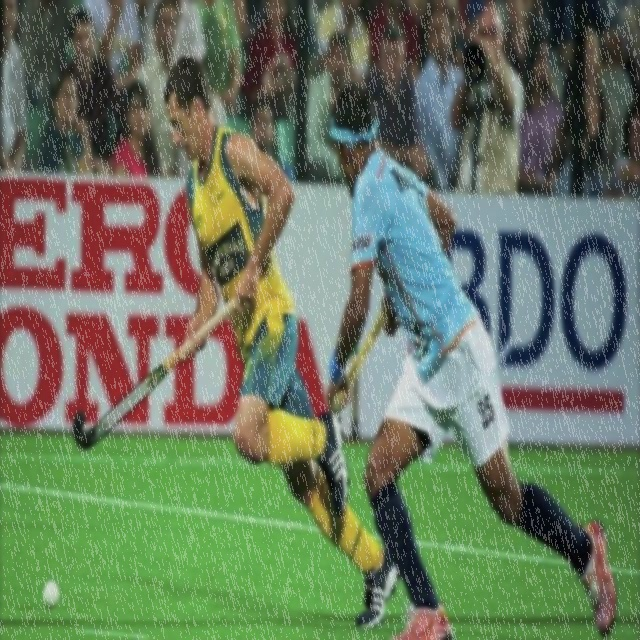pessoa: (323, 73, 619, 640), (161, 47, 401, 632), (520, 0, 638, 196), (447, 1, 528, 199), (412, 2, 467, 191), (362, 26, 426, 182), (304, 30, 368, 183), (59, 8, 118, 173), (72, 0, 206, 71), (240, 0, 300, 109), (36, 70, 94, 172), (206, 0, 252, 113), (0, 0, 30, 170), (110, 81, 162, 177), (313, 1, 423, 27), (248, 100, 278, 154)
